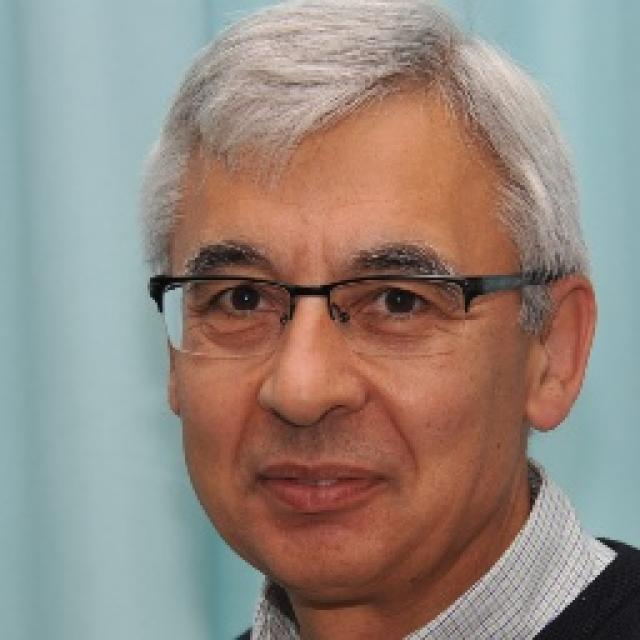earlobe: (524, 273, 597, 434)
